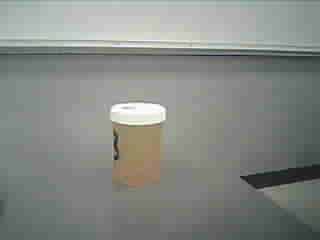Bottle B: (101, 99, 173, 190)
